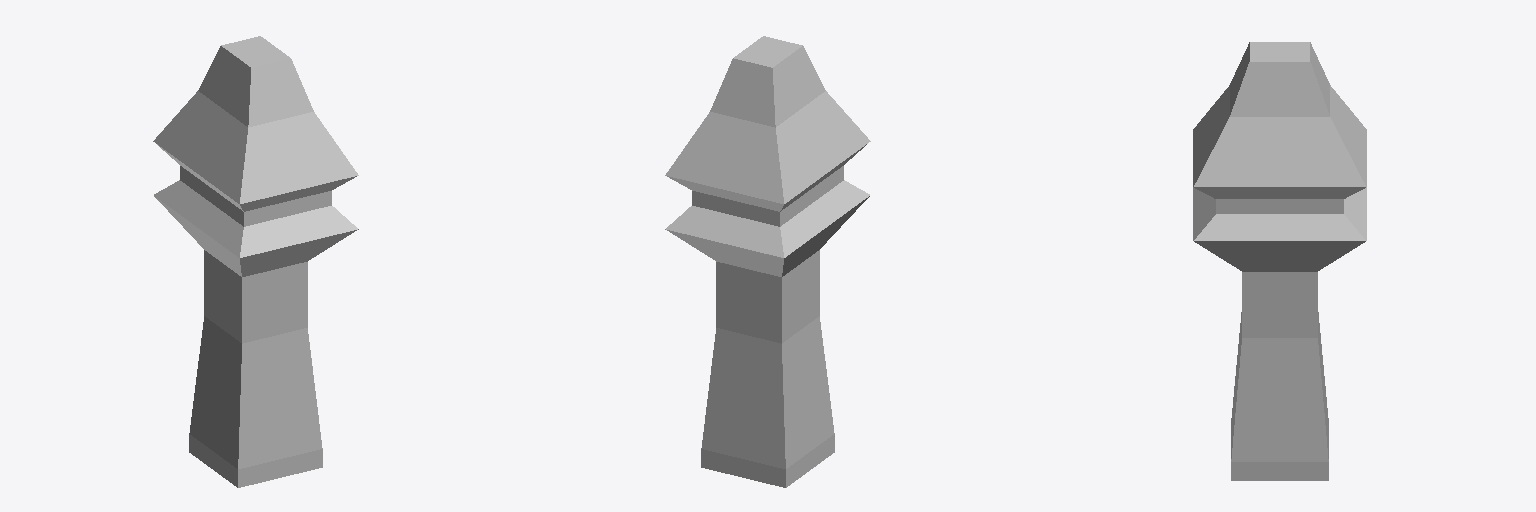
File: Building5.obj
The picture shows the model from 3 angles: view 1: azimuth 30°, elevation 25°; view 2: azimuth 150°, elevation 25°; view 3: azimuth 270°, elevation 25°; orthographic projection.
Parts seen in each view (by area): view 1: Building5; view 2: Building5; view 3: Building5.
Part boxes in pixels (x1,y1,x2,y2): Building5: (153,36,358,487); Building5: (665,36,870,487); Building5: (1193,42,1366,480).
Bounding box in the file's own units: 12 × 39.26 × 15.09.